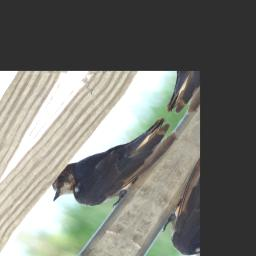Swallow: (43, 93, 184, 231)
